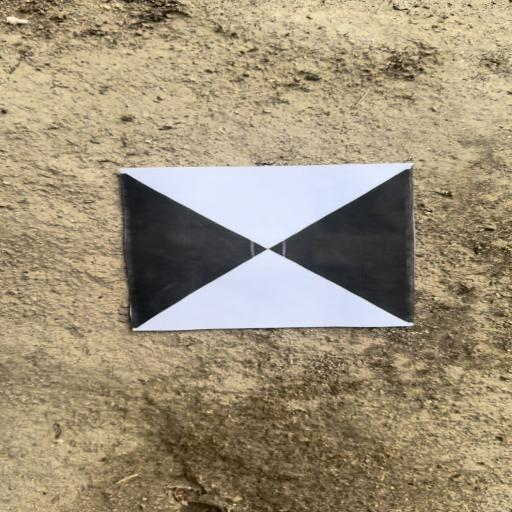target: (120, 164, 415, 331)
